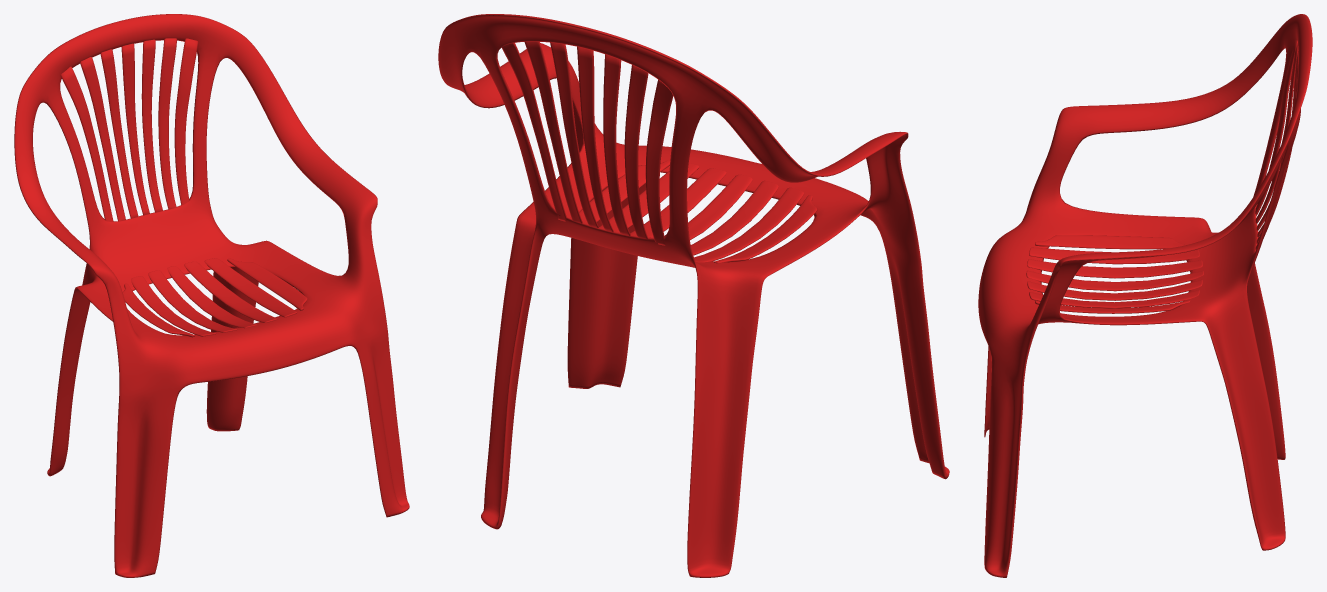
Rendered from plastic-chair1.glb.
3 renders of one model, left to right at view 1: azimuth 30°, elevation 25°; view 2: azimuth 150°, elevation 25°; view 3: azimuth 270°, elevation 25°, orthographic. The views are drawn at different scales.
Visible parts, largest first — view 1: Plastic_Chair; view 2: Plastic_Chair; view 3: Plastic_Chair.
Part boxes in pixels (bbox=[...]): Plastic_Chair: bbox=[14, 14, 409, 577]; Plastic_Chair: bbox=[438, 14, 949, 577]; Plastic_Chair: bbox=[978, 14, 1312, 577].
Bounding box in the file's own units: 2.09 × 2.85 × 1.88.
